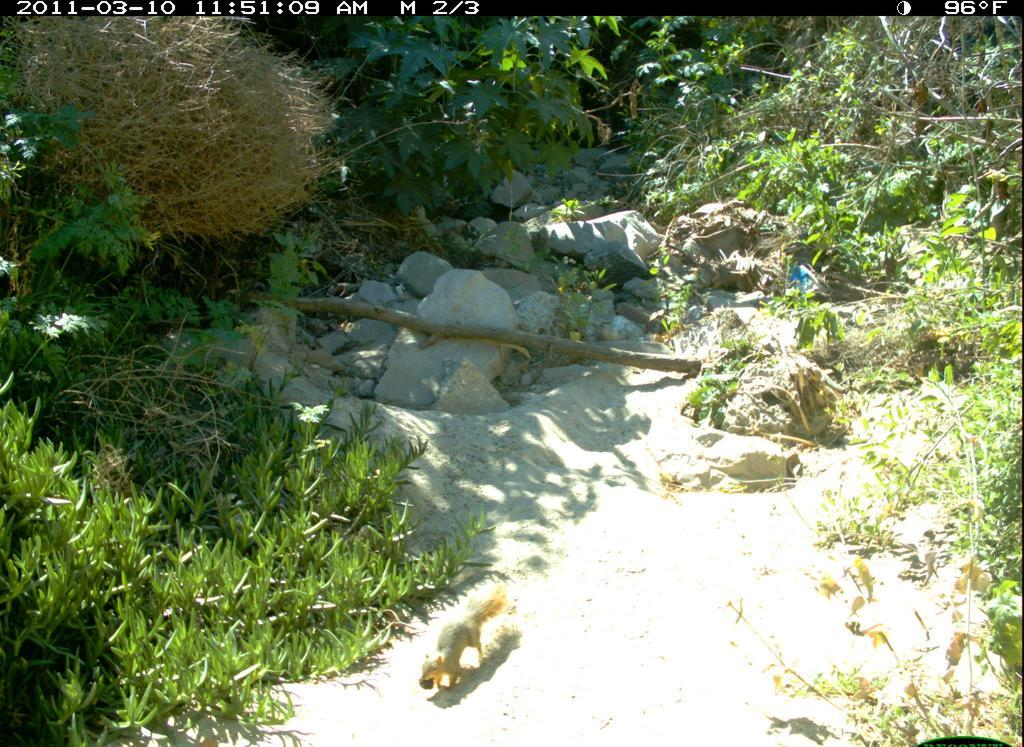squirrel: (406, 580, 525, 707)
